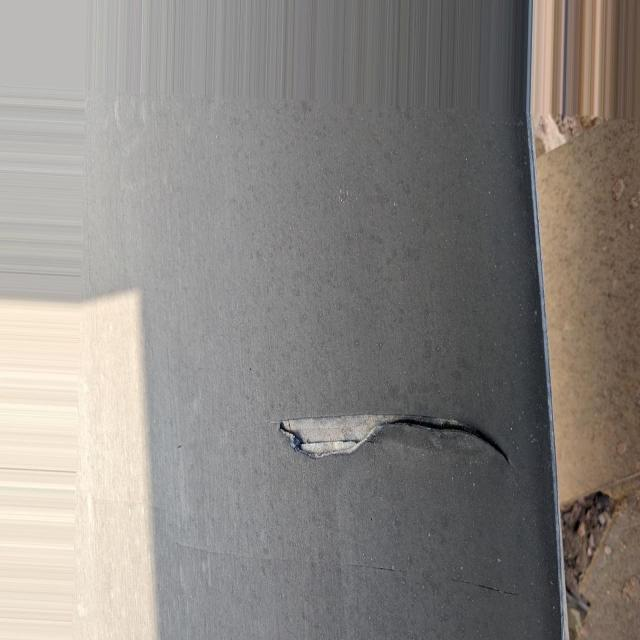Tear: (278, 414, 511, 464)
